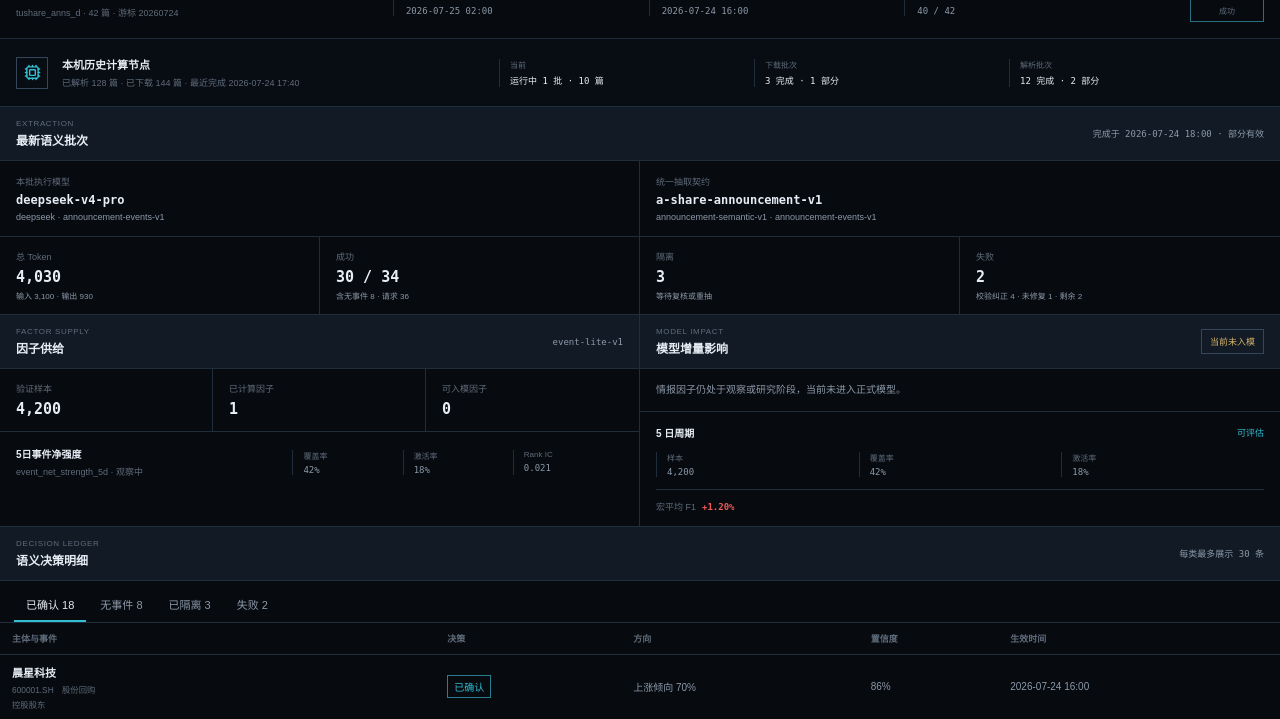
it: IntelligencePanel › loads only after visibility and opens a traceable decision drawer
This screenshot has width=1280, height=719.
(page scrolled)
Expected: the text "晨星科技" is shown, [12, 667, 56, 679]
Expected: the text "控股股东" is shown, [12, 700, 45, 710]
Click the button "晨星科技 600001.SH 股份回购 控股股东" at (34, 673), box [12, 664, 423, 710]
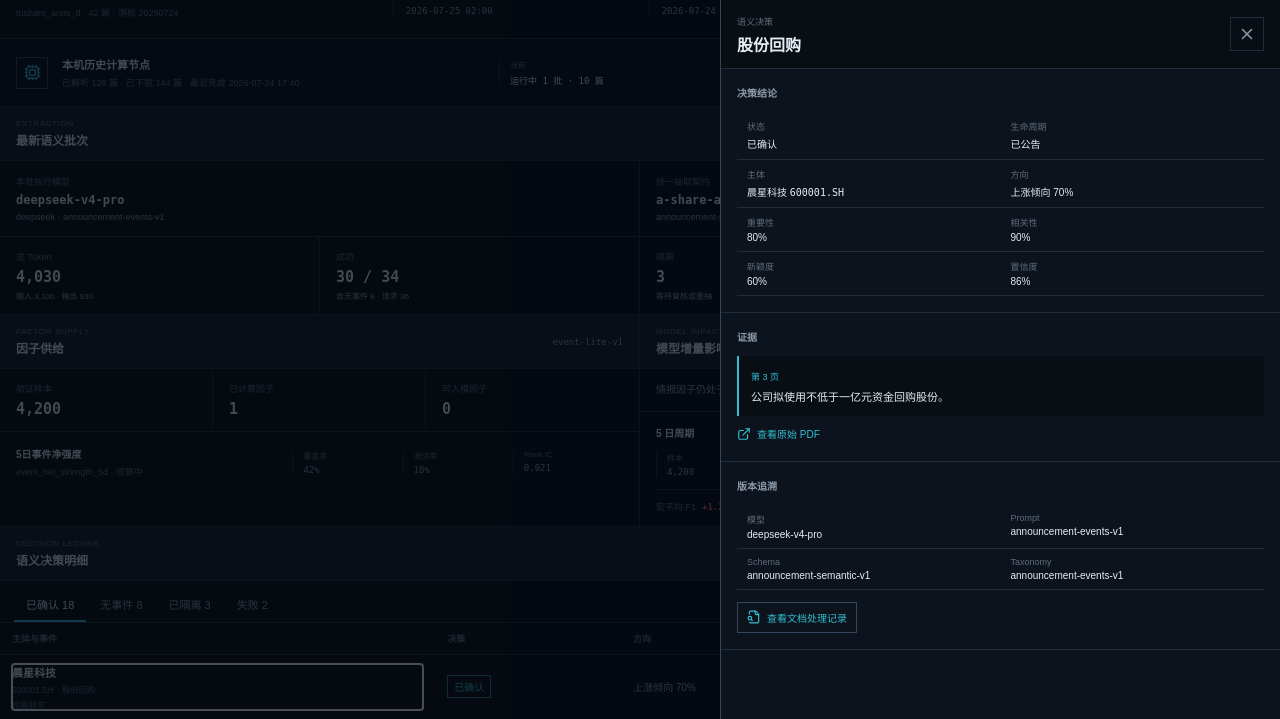
Result: the heading "股份回购" is shown at [737, 32, 801, 56]
Result: the text "600001.SH" is shown at [790, 187, 844, 198]
Result: the text "上涨倾向 70%" is shown at [1010, 187, 1073, 198]
